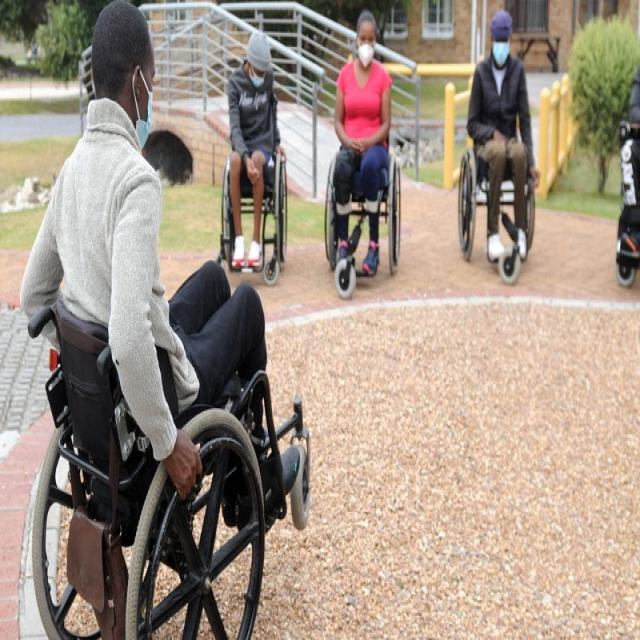wheelchairs: (22, 259, 318, 637), (315, 129, 429, 309), (454, 112, 557, 300), (216, 95, 305, 289), (612, 100, 640, 307)
